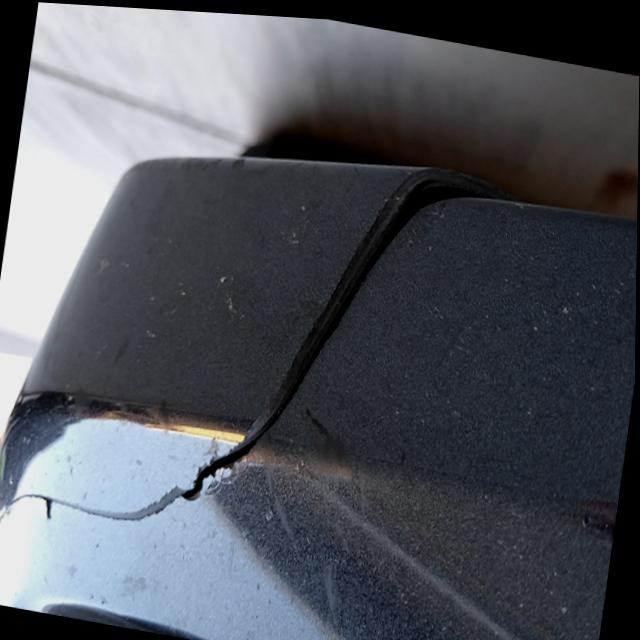Crack: (0, 155, 516, 528)
